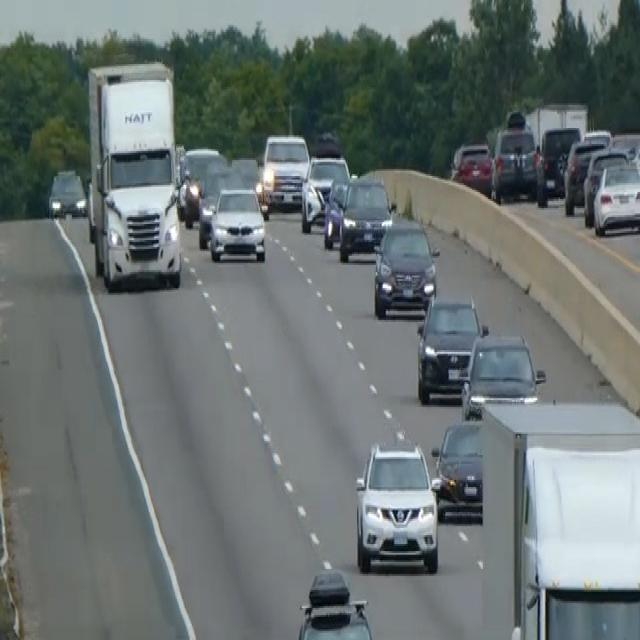car: (353, 438, 439, 574), (415, 292, 487, 404), (460, 329, 546, 419), (372, 217, 439, 318), (430, 416, 484, 521), (338, 175, 394, 262), (208, 185, 266, 263), (491, 112, 538, 201), (196, 162, 244, 247), (300, 151, 349, 233), (178, 144, 225, 226), (260, 130, 309, 208), (592, 158, 639, 236), (582, 146, 629, 224), (535, 124, 580, 204), (562, 137, 606, 213), (451, 138, 493, 196), (230, 155, 269, 213), (322, 176, 351, 249), (47, 167, 87, 219)
jeep: (294, 560, 374, 638)
lorry: (85, 57, 183, 290)
